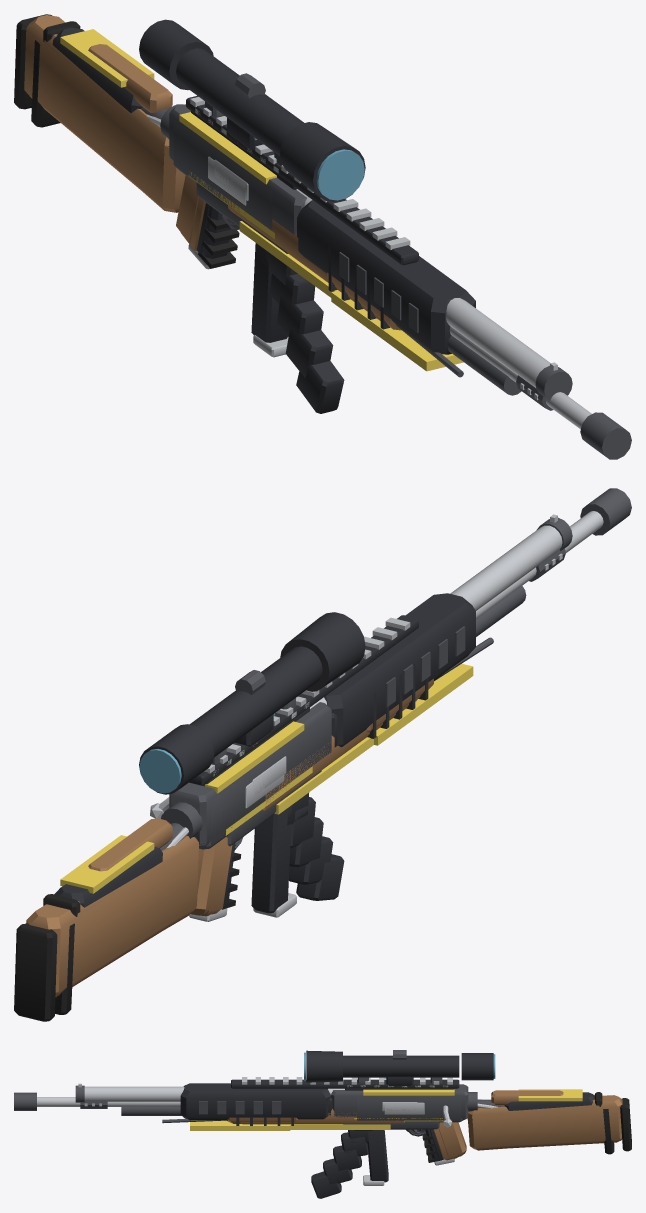
The model's file is weapons.glb.
The picture shows the model from 3 angles, top to bottom: view 1: azimuth 30°, elevation 25°; view 2: azimuth 150°, elevation 25°; view 3: azimuth 270°, elevation 25°; orthographic projection. The views are drawn at different scales.
Parts seen in each view (by area): view 1: Arma_sniper, Arma_fuzil, Arma_escopeta, Arma_smg, Arma_pistola; view 2: Arma_sniper, Arma_fuzil, Arma_escopeta, Arma_smg; view 3: Arma_sniper, Arma_fuzil, Arma_escopeta, Arma_smg, Arma_pistola.
Boxes of the visible parts, box(x1,y1,x2,y2) form: Arma_sniper: box(14, 14, 631, 459); Arma_fuzil: box(43, 21, 553, 413); Arma_escopeta: box(31, 34, 572, 400); Arma_smg: box(146, 108, 298, 357); Arma_pistola: box(188, 206, 239, 269); Arma_sniper: box(14, 488, 631, 1021); Arma_fuzil: box(43, 548, 565, 916); Arma_escopeta: box(55, 514, 572, 1014); Arma_smg: box(167, 702, 337, 917); Arma_sniper: box(14, 1050, 631, 1160); Arma_fuzil: box(80, 1077, 602, 1198); Arma_escopeta: box(75, 1083, 614, 1157); Arma_smg: box(328, 1085, 497, 1185); Arma_pistola: box(406, 1129, 454, 1165).
Bounding box in the file's own units: 0.1068 × 0.3534 × 1.35.
